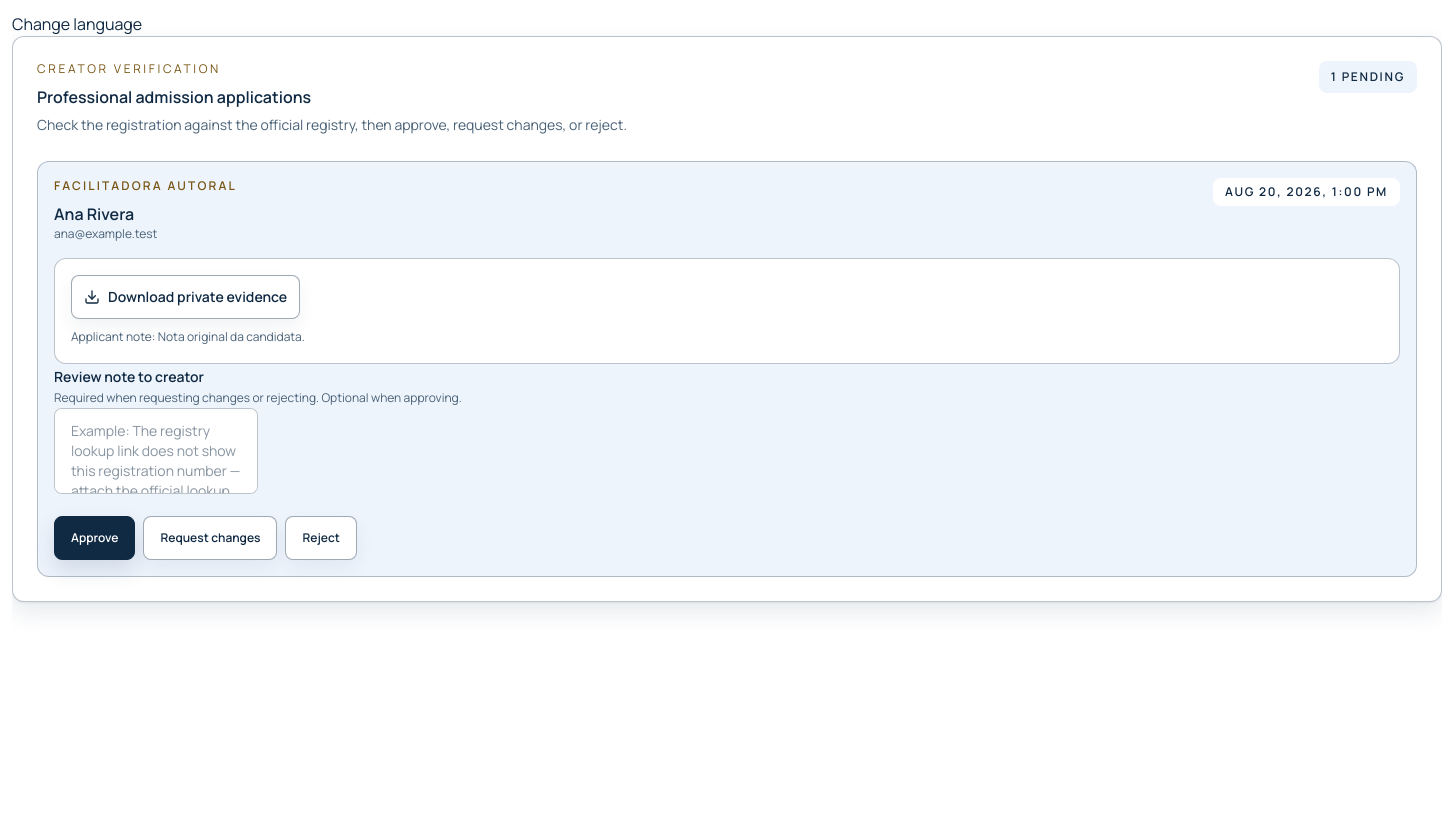
verification queue search, states and language › offers private evidence without publishing its path and handles denied access
This screenshot has width=1452, height=822.
Click the button "Download private evidence" at (186,297), box [71,275,300,319]
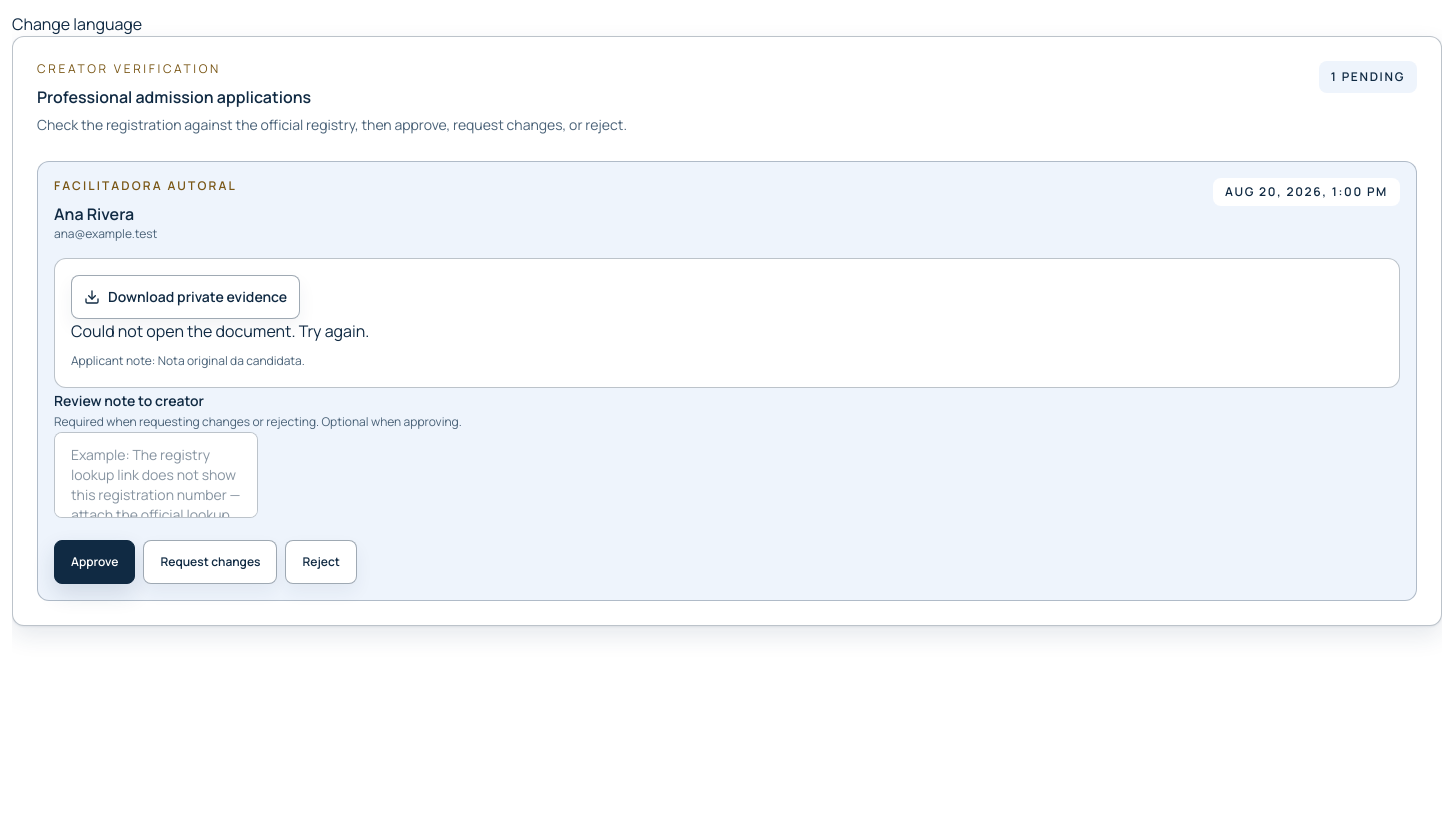
Now the message shows "Could not open the document", box [71,320,369,342]
